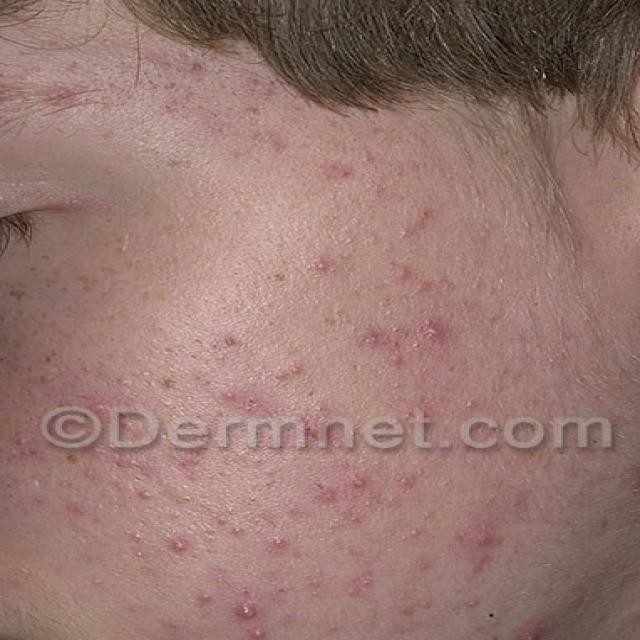Acne: (126, 232, 526, 640), (0, 4, 587, 234)
